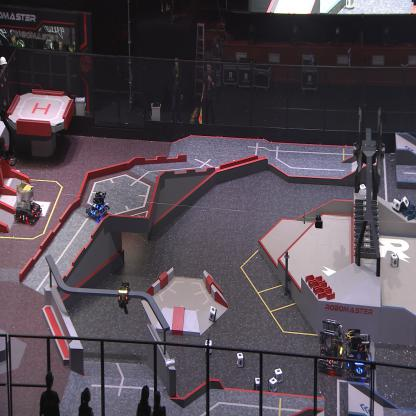car: (317, 319, 345, 373), (345, 327, 372, 379), (14, 181, 43, 226), (85, 189, 111, 220)
